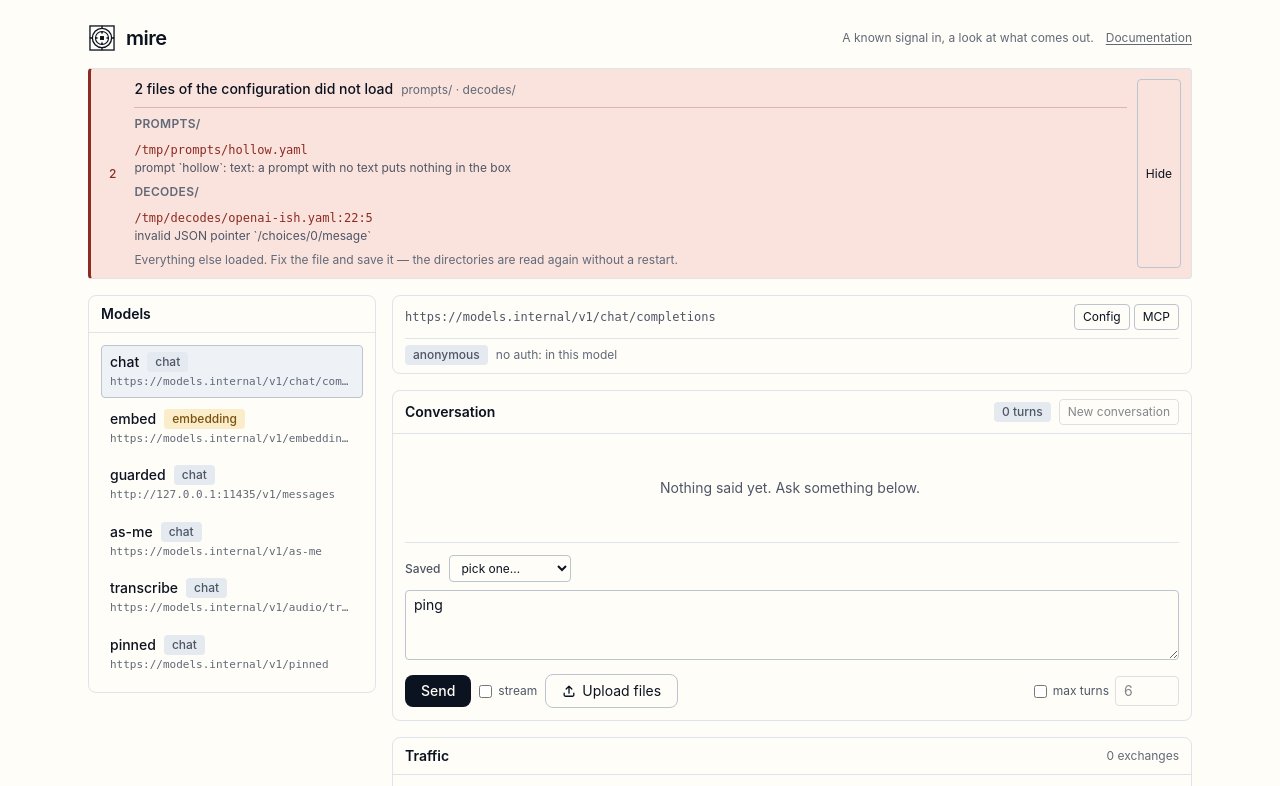
Test: App › leaves the servers out of an embedding model, which has no loop to be in
The image size is (1280, 786).
Step 1. Click the button "chat chat https://models.internal/v1/chat/completions" → (232, 371), box [110, 352, 354, 390]
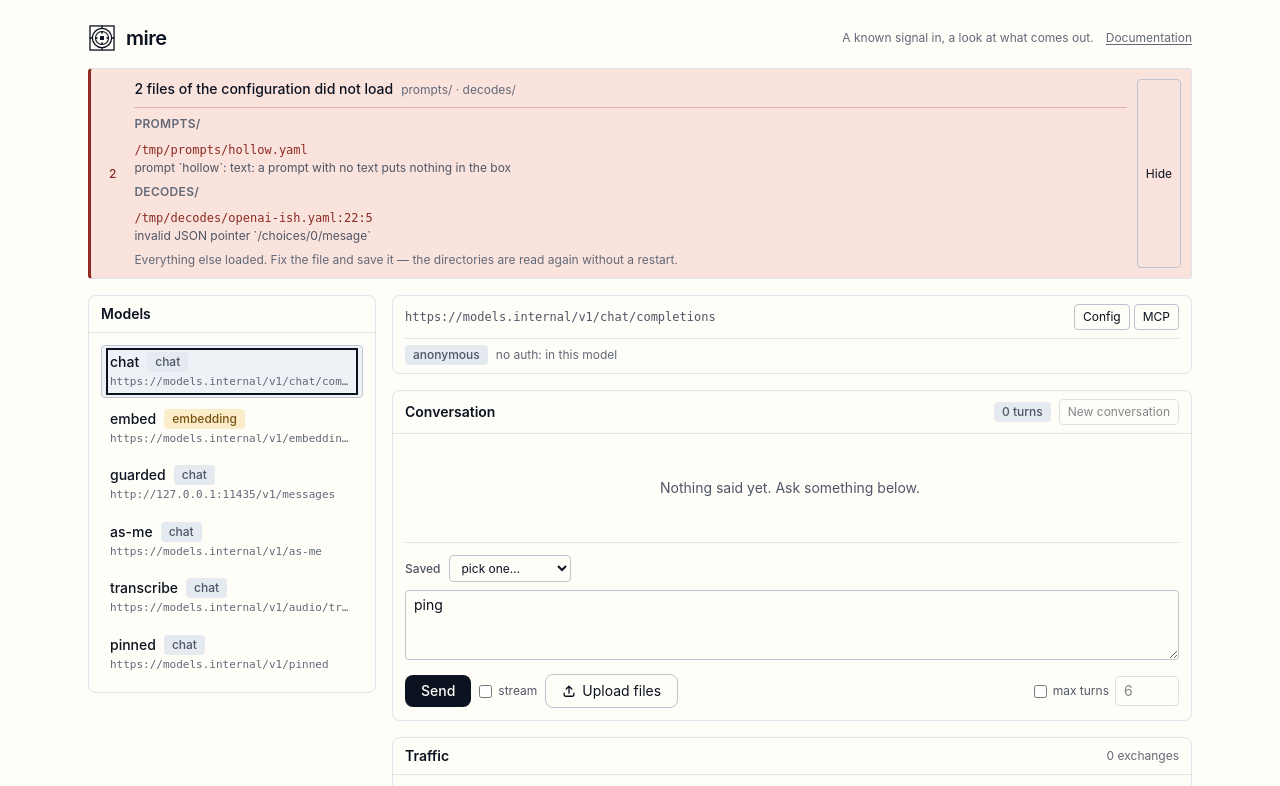
Step 2. Click the button "MCP" → (1156, 317), box [1134, 304, 1179, 330]
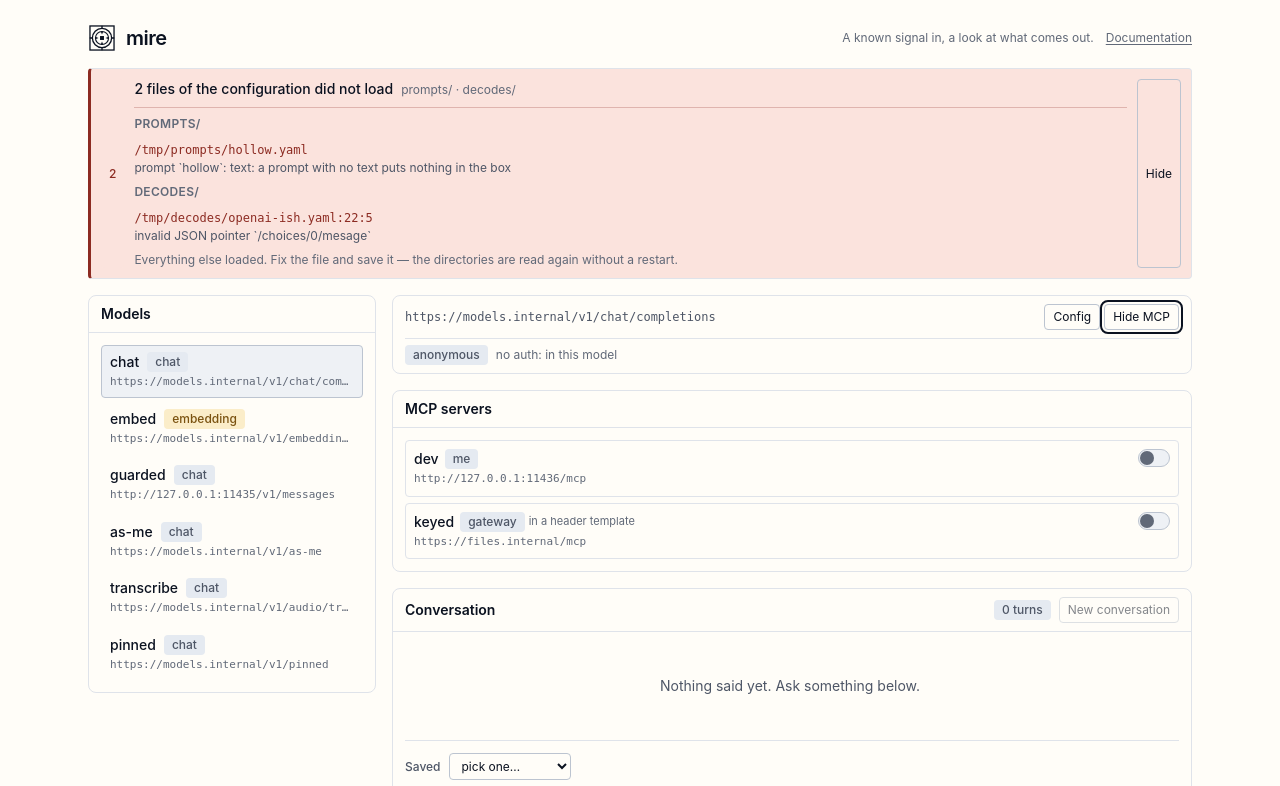
Step 3. Click the switch named "dev" → (1154, 458), box [1138, 449, 1170, 467]
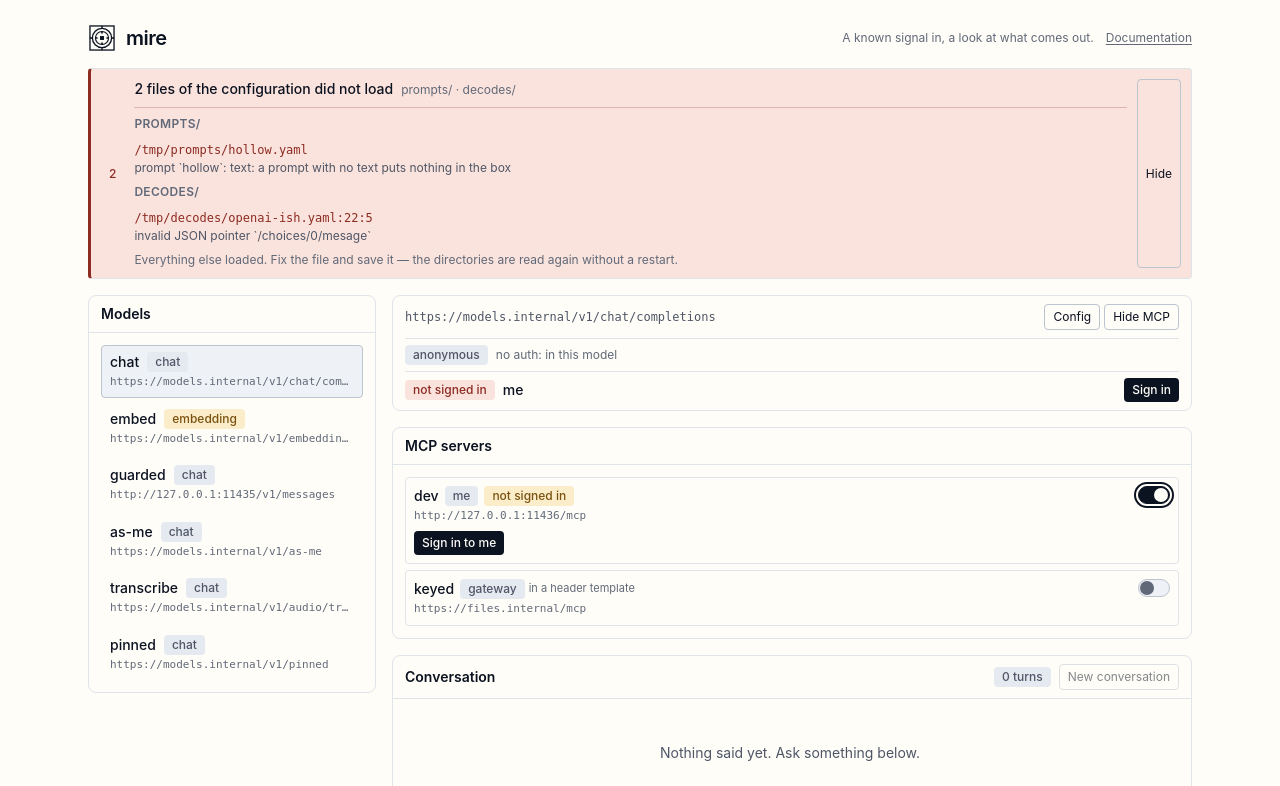
Now the heading "MCP servers" is shown, box [405, 436, 492, 456]
Step 4. Click the button "embed embedding https://models.internal/v1/embeddings" → (232, 428), box [110, 408, 354, 447]
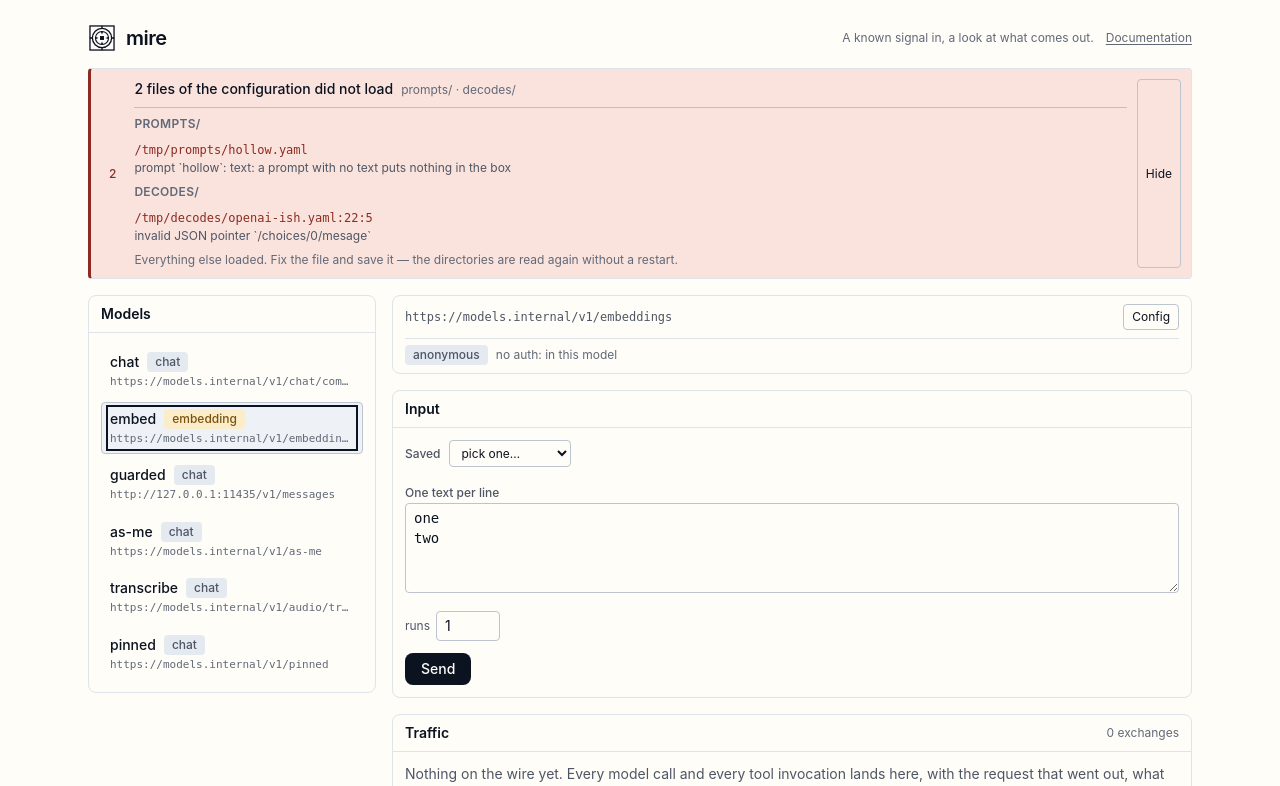
Expected: the button "MCP" is not shown
Now the heading "MCP servers" is gone
